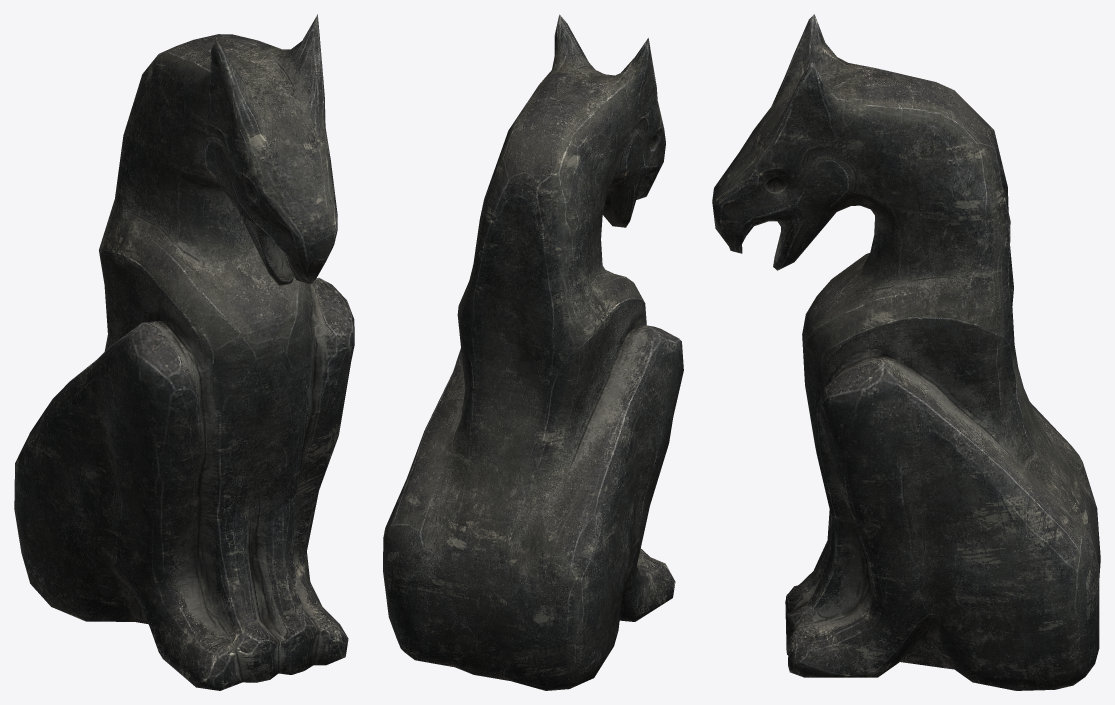
The model's file is dragonstatue.glb.
3 views of the same model, side by side, from view 1: azimuth 30°, elevation 25°; view 2: azimuth 150°, elevation 25°; view 3: azimuth 270°, elevation 25° (orthographic). The views are drawn at different scales.
Parts seen in each view (by area): view 1: staue1; view 2: staue1; view 3: staue1.
Boxes of the visible parts, bbox=[...] form: staue1: bbox=[14, 14, 354, 690]; staue1: bbox=[383, 14, 683, 690]; staue1: bbox=[712, 14, 1100, 690].
Size of the model in its own units: 3.02 by 7.79 by 4.49.
Materials: 1 (1 with a texture image).
